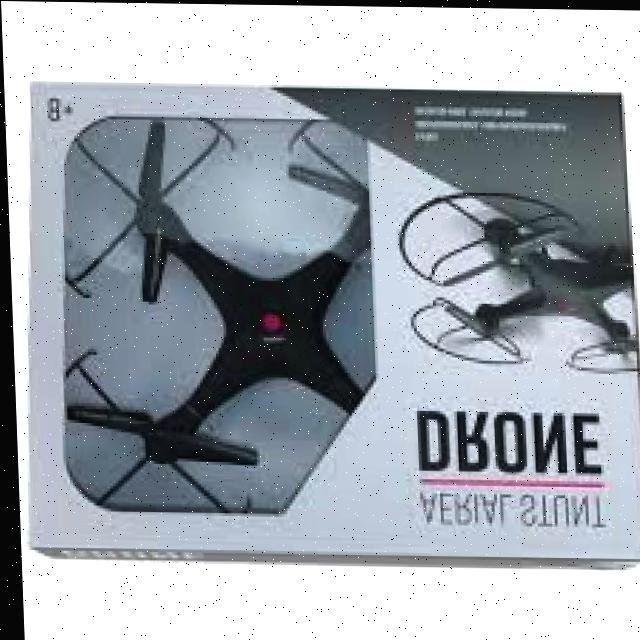drone: (45, 109, 443, 528), (393, 184, 640, 386)
